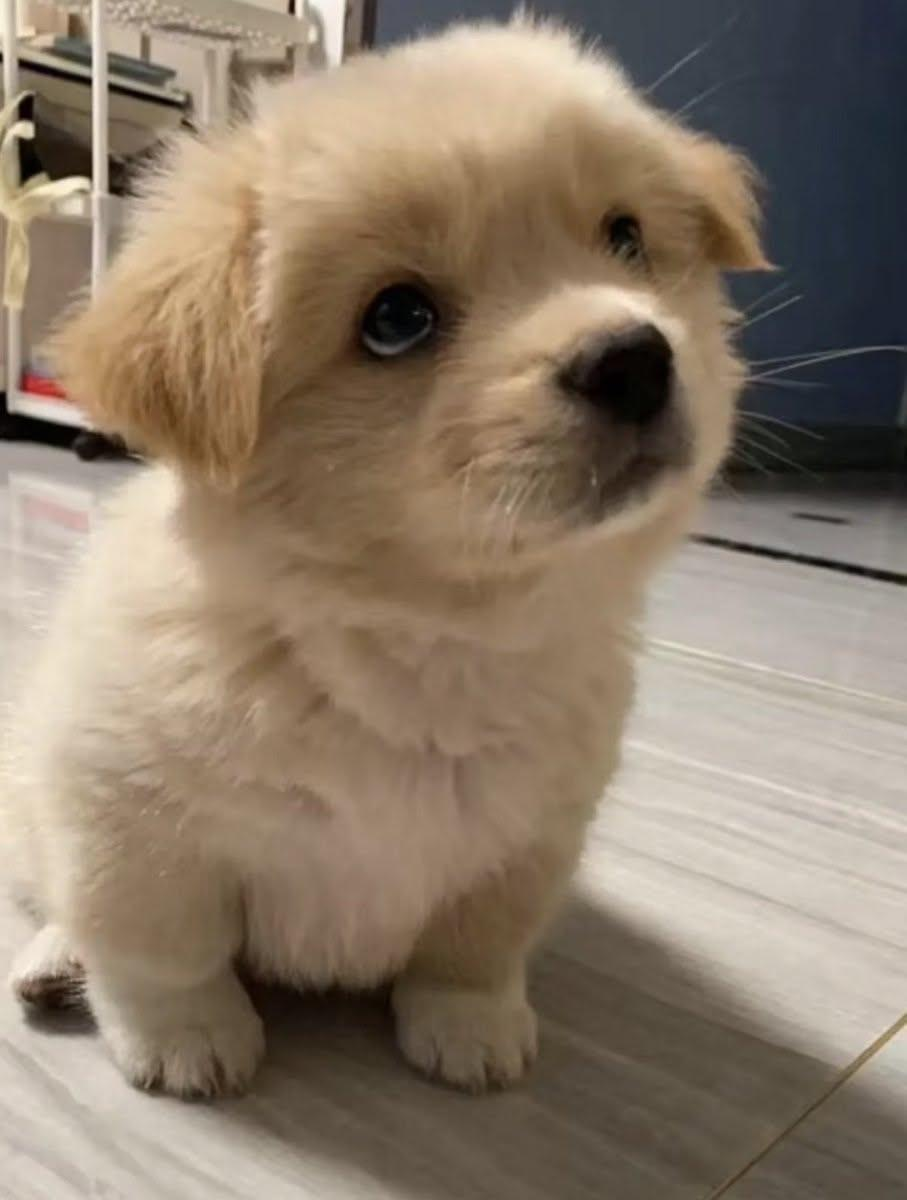puppy-dog: (0, 18, 775, 1097)
